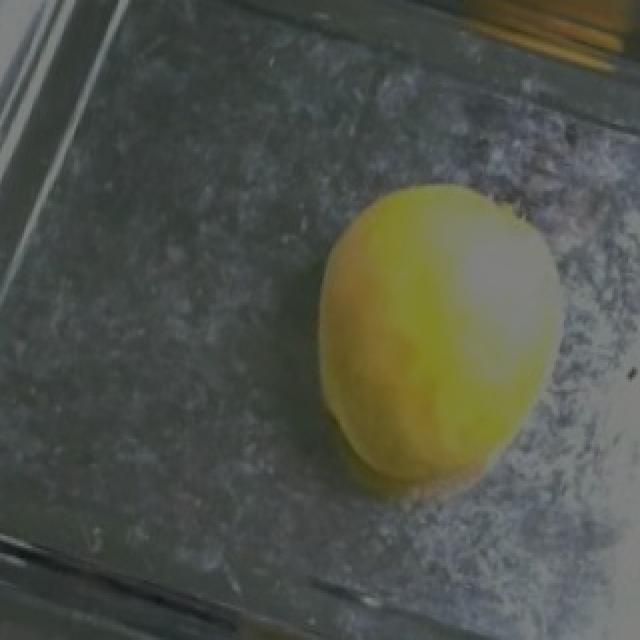fruit: (262, 142, 624, 524), (412, 0, 640, 87)
